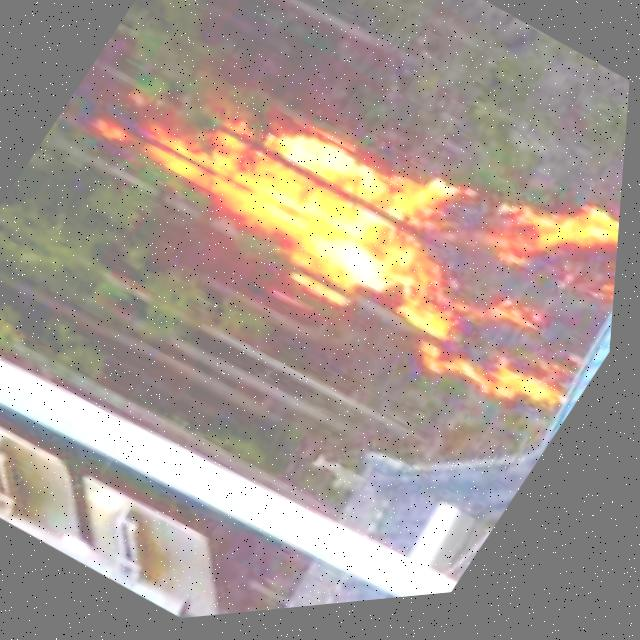Fire: (68, 0, 640, 480)
